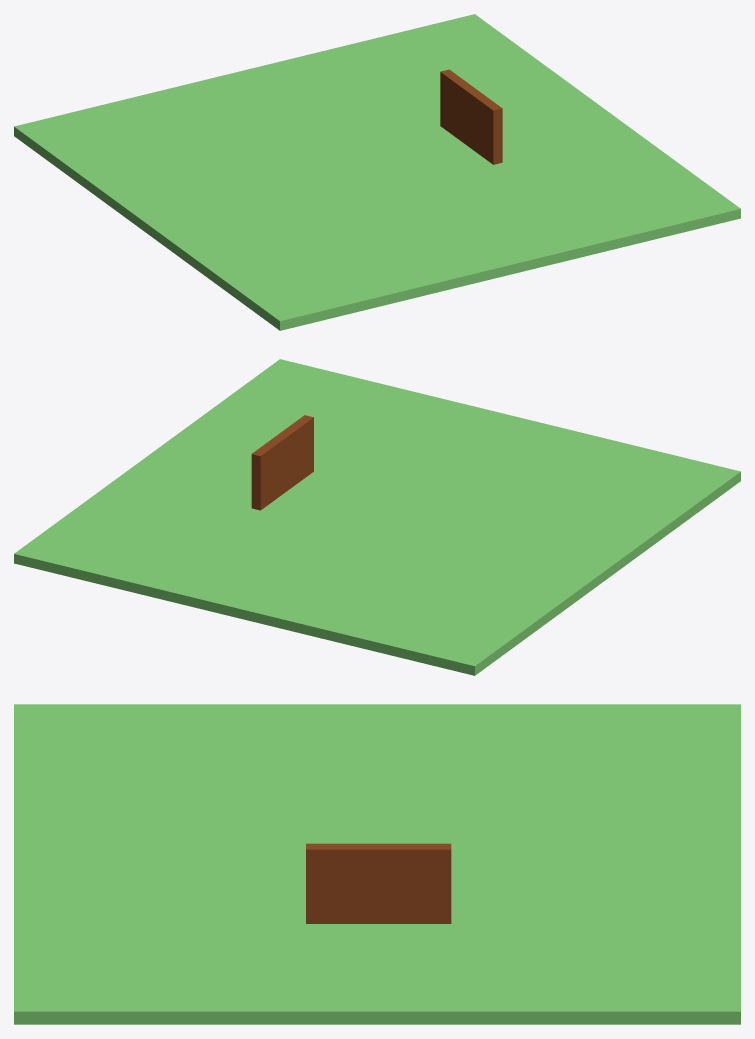
File: TestField.fbx
The picture shows the model from 3 angles, top to bottom: view 1: azimuth 30°, elevation 25°; view 2: azimuth 150°, elevation 25°; view 3: azimuth 270°, elevation 25°; orthographic projection. The views are drawn at different scales.
Visible parts, largest first — view 1: pCube3; view 2: pCube3; view 3: pCube3.
Boxes of the visible parts, x1,y1,x2,y2 form: pCube3: (14,14,740,330); pCube3: (14,359,740,675); pCube3: (14,704,740,1024).
Size of the model in its own units: 50 by 10 by 50.
